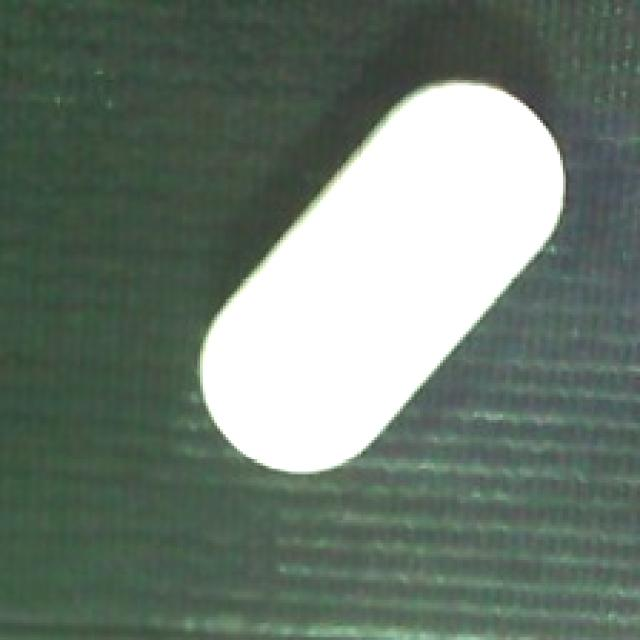no-defect: (194, 74, 571, 478)
